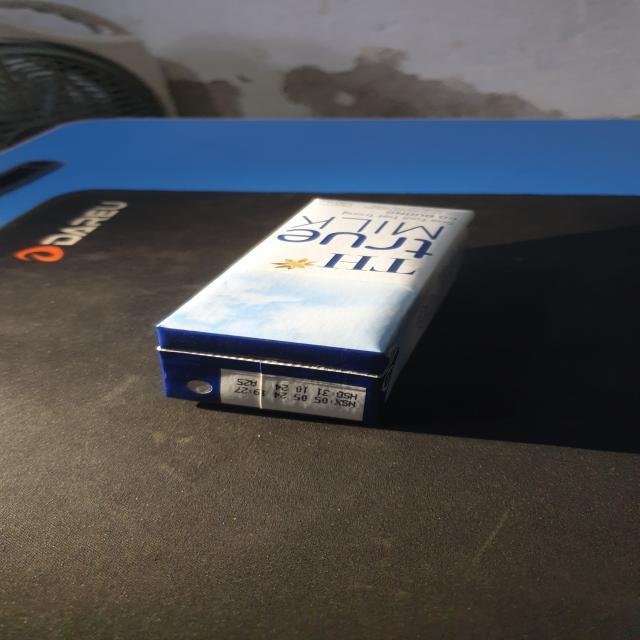TH: (153, 198, 472, 426)
